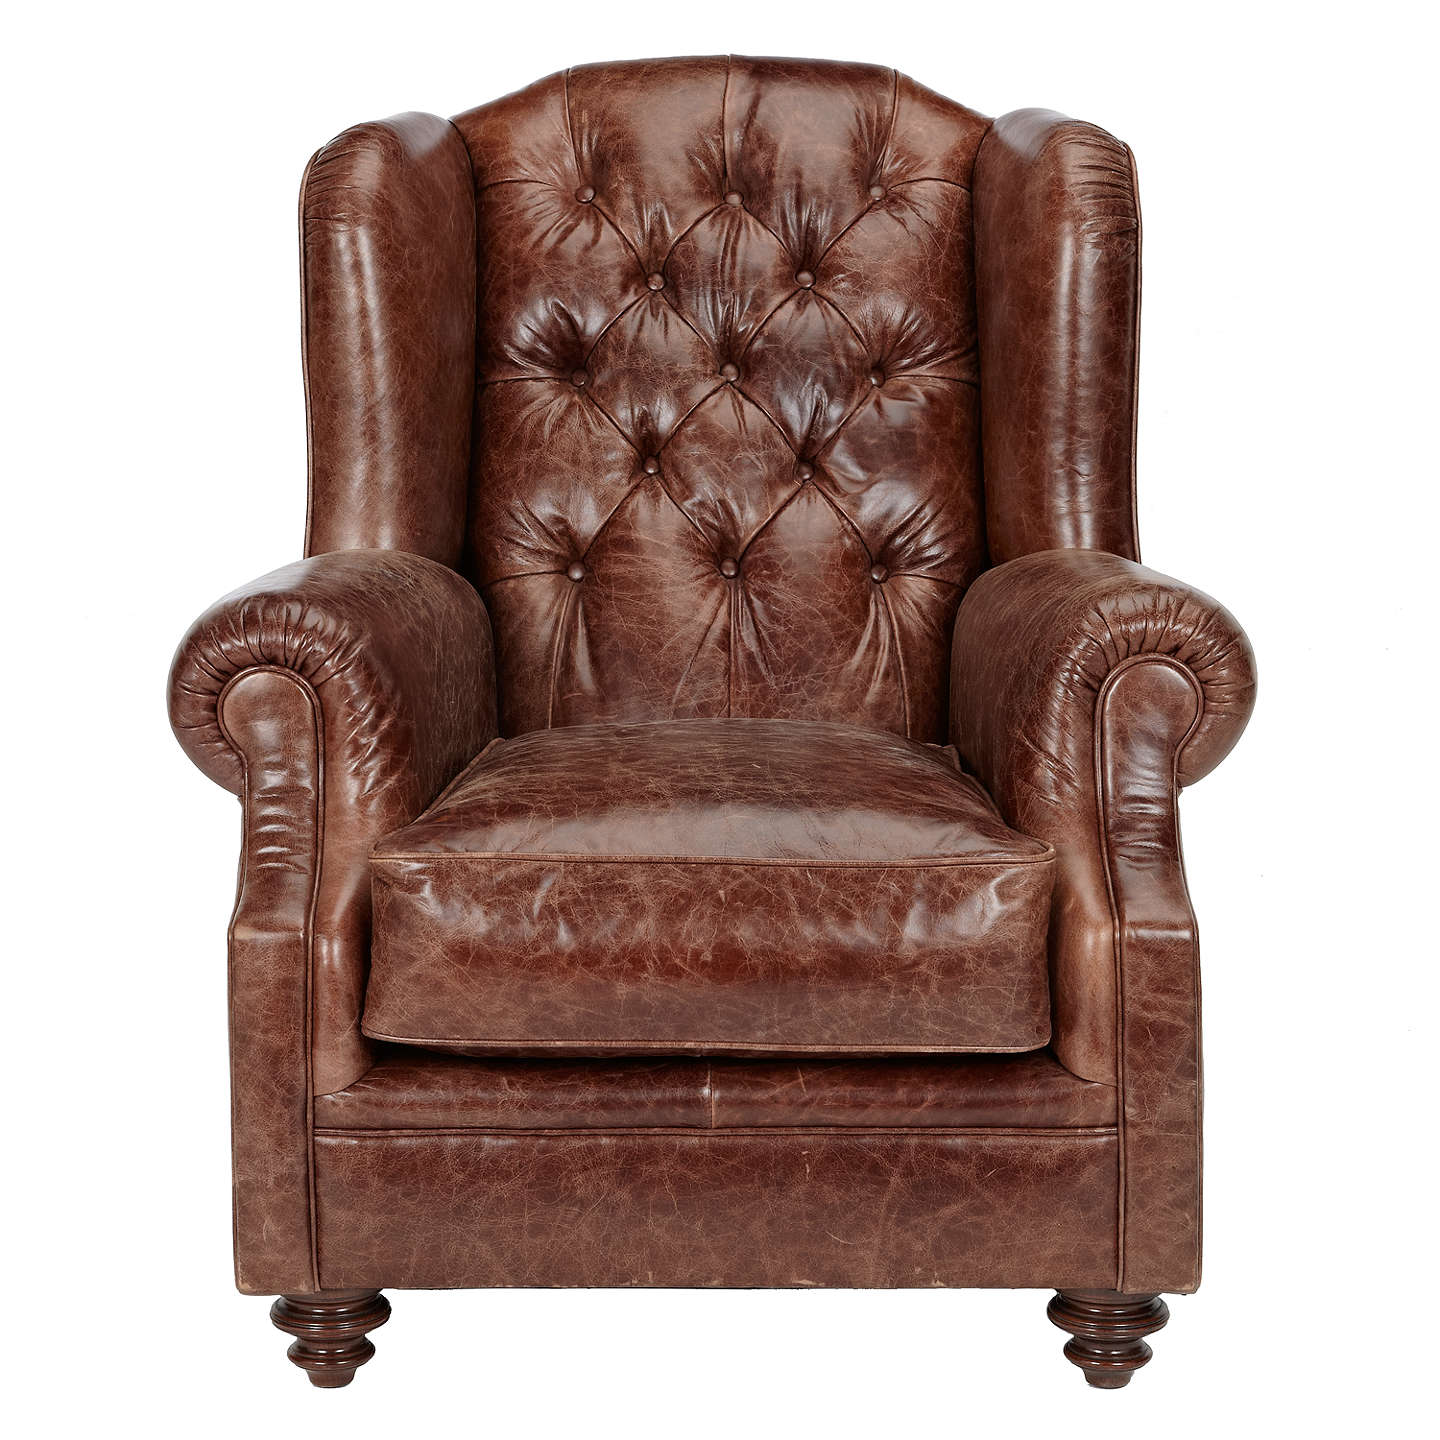chairs: (167, 51, 1261, 1395)
